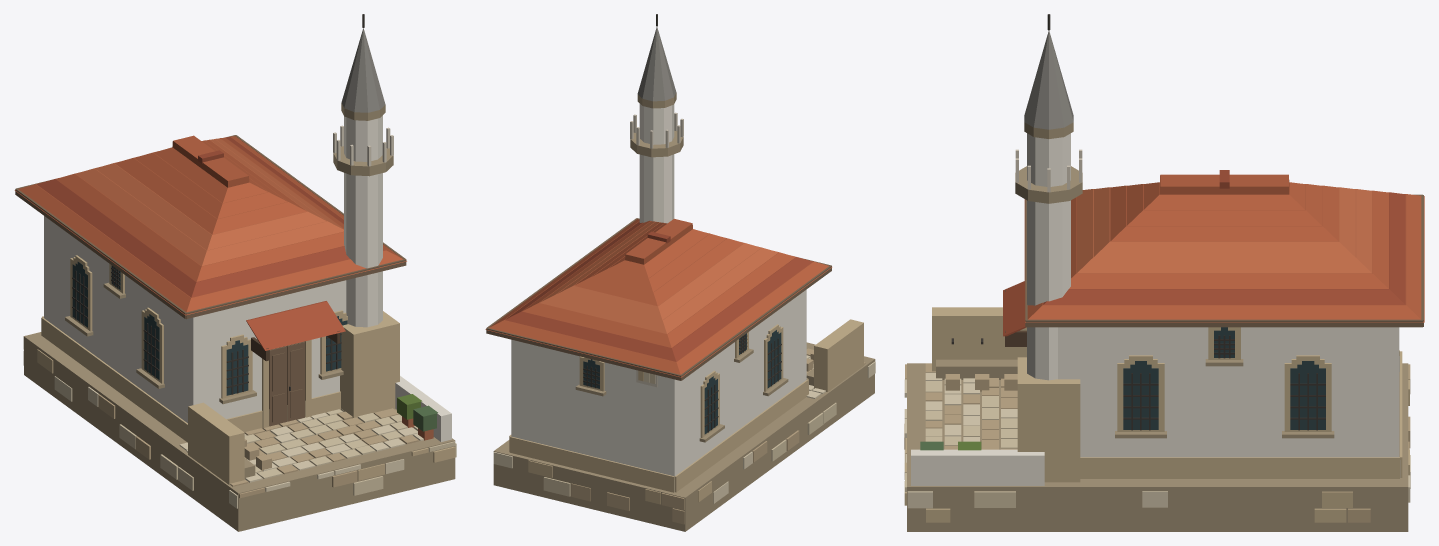
The model's file is iskele-mescidi.glb.
3 views of the same model, side by side, from view 1: azimuth 30°, elevation 25°; view 2: azimuth 150°, elevation 25°; view 3: azimuth 270°, elevation 25° (orthographic). The views are drawn at different scales.
Visible parts, largest first — view 1: badana, kiremit1, tas_koyu, tas2, kiremit3, ahsap, kiremit4, tas3, tas1, tas4, kiremit2, cam (+4 smaller); view 2: badana, kiremit1, tas_koyu, tas2, kiremit3, kiremit4, ahsap, tas3, sac, cam, tas1, demir (+2 smaller); view 3: badana, tas_koyu, kiremit1, tas2, kiremit3, kiremit4, cam, ahsap, tas3, tas4, tas1, sac (+3 smaller).
Part boxes in pixels (<box>): badana: <box>44,115,451,441</box>; kiremit1: <box>14,135,406,315</box>; tas_koyu: <box>24,103,455,531</box>; tas2: <box>37,255,455,484</box>; kiremit3: <box>76,138,343,265</box>; ahsap: <box>15,135,406,426</box>; kiremit4: <box>36,137,384,297</box>; tas3: <box>23,332,418,498</box>; tas1: <box>119,409,455,495</box>; tas4: <box>54,376,456,508</box>; kiremit2: <box>246,301,345,350</box>; cam: <box>72,261,347,395</box>; badana: <box>511,103,806,476</box>; kiremit1: <box>485,218,832,377</box>; tas_koyu: <box>493,92,874,531</box>; tas2: <box>509,319,863,504</box>; kiremit3: <box>539,221,778,333</box>; kiremit4: <box>505,221,812,361</box>; ahsap: <box>486,218,831,380</box>; tas3: <box>571,348,875,524</box>; sac: <box>637,26,676,101</box>; cam: <box>583,330,781,434</box>; tas1: <box>543,373,836,496</box>; demir: <box>583,14,781,432</box>; badana: <box>911,133,1399,485</box>; tas_koyu: <box>907,122,1408,531</box>; kiremit1: <box>1024,174,1424,322</box>; tas2: <box>904,307,1409,522</box>; kiremit3: <box>1076,187,1372,273</box>; kiremit4: <box>1043,170,1405,304</box>; cam: <box>1123,327,1325,429</box>; ahsap: <box>1025,194,1423,327</box>; tas3: <box>904,363,1410,522</box>; tas4: <box>904,372,1410,508</box>; tas1: <box>904,378,1410,507</box>; sac: <box>1024,30,1073,129</box>.
Bounding box in the file's own units: 7.17 × 13.19 × 12.44.
